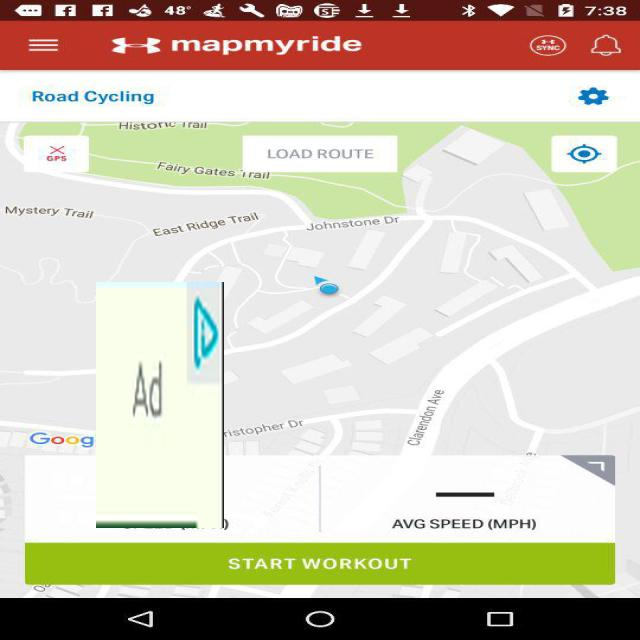sneaking: (96, 282, 224, 528)
